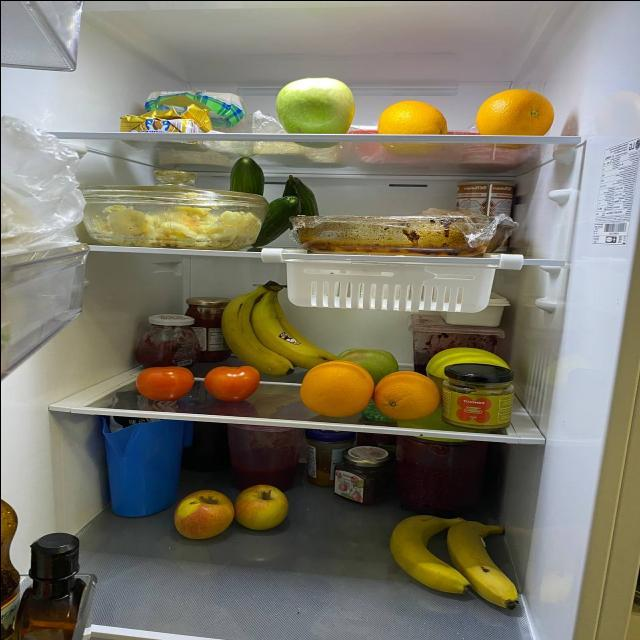Apple: (272, 79, 362, 136), (168, 491, 234, 537), (236, 484, 282, 526), (343, 343, 397, 375)
Banana: (389, 512, 514, 610), (217, 274, 339, 374)
Cucumber: (259, 196, 301, 245), (220, 157, 271, 194), (280, 174, 318, 214)
Orange: (465, 93, 563, 136), (298, 364, 378, 414), (382, 96, 452, 137), (372, 373, 442, 413)
Tomato: (132, 363, 202, 398), (204, 359, 260, 400)
